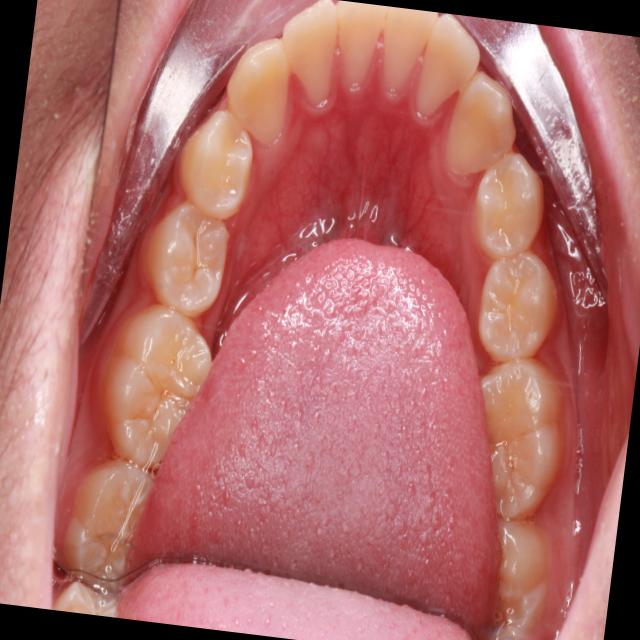tooth: (87, 290, 226, 490), (459, 339, 586, 536), (56, 437, 169, 594), (465, 493, 572, 640), (460, 229, 569, 372), (133, 191, 243, 331), (436, 51, 533, 198), (215, 26, 316, 164), (164, 101, 266, 228), (463, 135, 556, 272), (405, 10, 492, 145), (268, 0, 360, 120), (318, 0, 394, 115), (369, 5, 446, 116)
